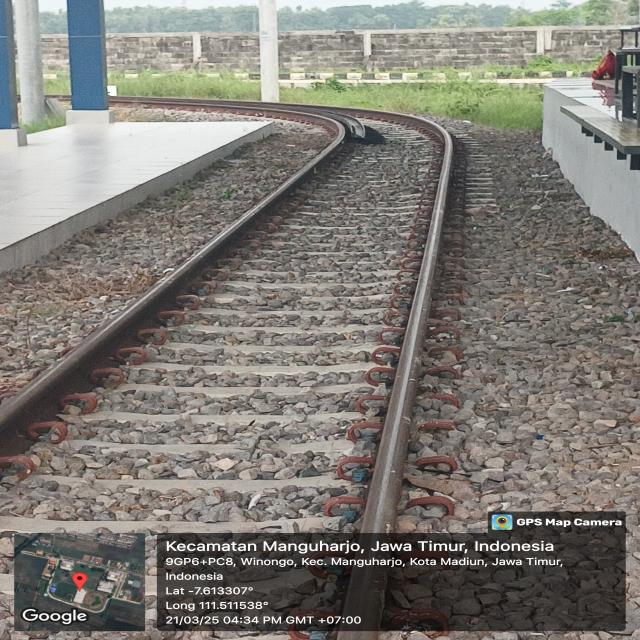rail-detection: (0, 99, 367, 454), (359, 110, 454, 534), (337, 559, 390, 640)
